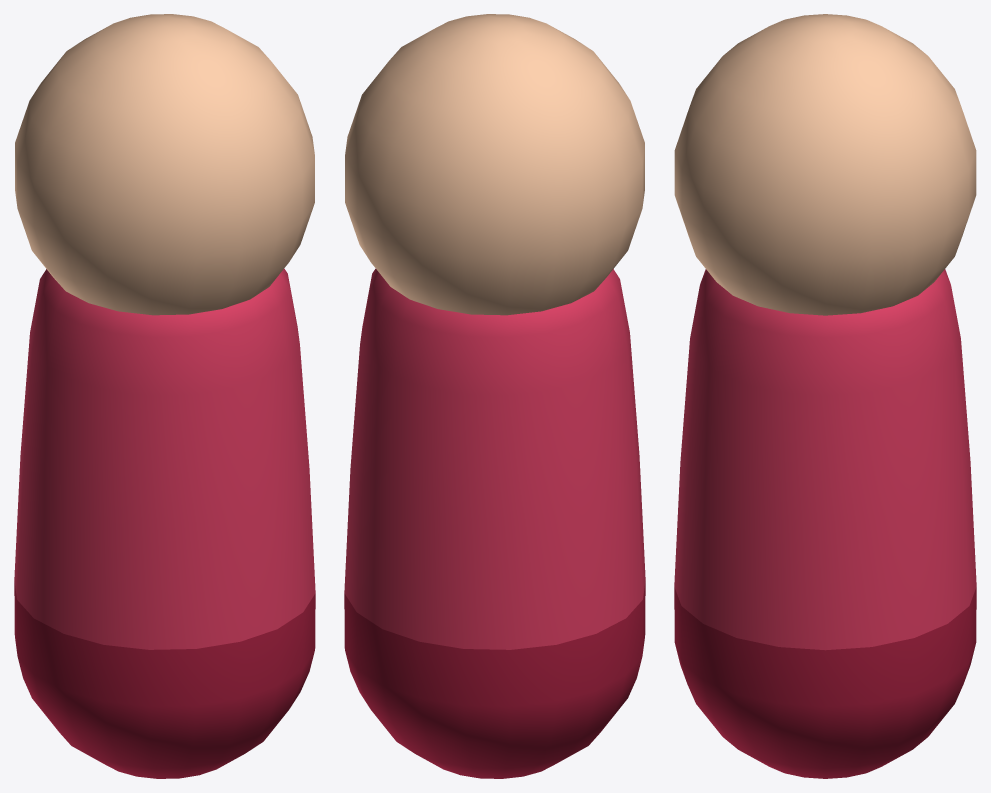
The model's file is kirmizi2.fbx.
3 views of the same model, side by side, from view 1: azimuth 30°, elevation 25°; view 2: azimuth 150°, elevation 25°; view 3: azimuth 270°, elevation 25° (orthographic).
Visible parts, largest first — view 1: kirmizi2; view 2: kirmizi2; view 3: kirmizi2.
Boxes of the visible parts, x1=… form: kirmizi2: x1=14, y1=14, x2=315, y2=778; kirmizi2: x1=344, y1=14, x2=645, y2=778; kirmizi2: x1=674, y1=14, x2=976, y2=778.
Size of the model in its own units: 1.86 by 5.02 by 1.86.
